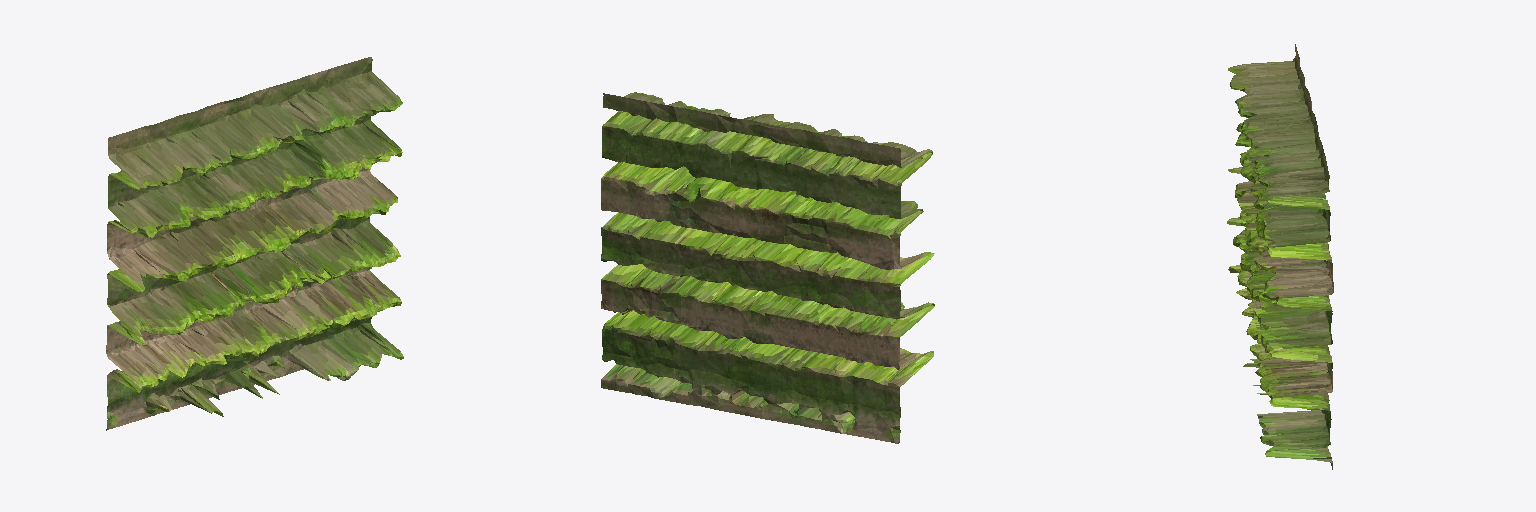
3 renders of one model, left to right at view 1: azimuth 30°, elevation 25°; view 2: azimuth 150°, elevation 25°; view 3: azimuth 270°, elevation 25°, orthographic.
Parts seen in each view (by area): view 1: grp1; view 2: grp1; view 3: grp1.
Part boxes in pixels (x1,y1,x2,y2): grp1: (106,57,403,430); grp1: (601,92,934,443); grp1: (1227,44,1333,469).
Bounding box in the file's own units: 10 × 10 × 3.32.
Materials: 1 (1 with a texture image).